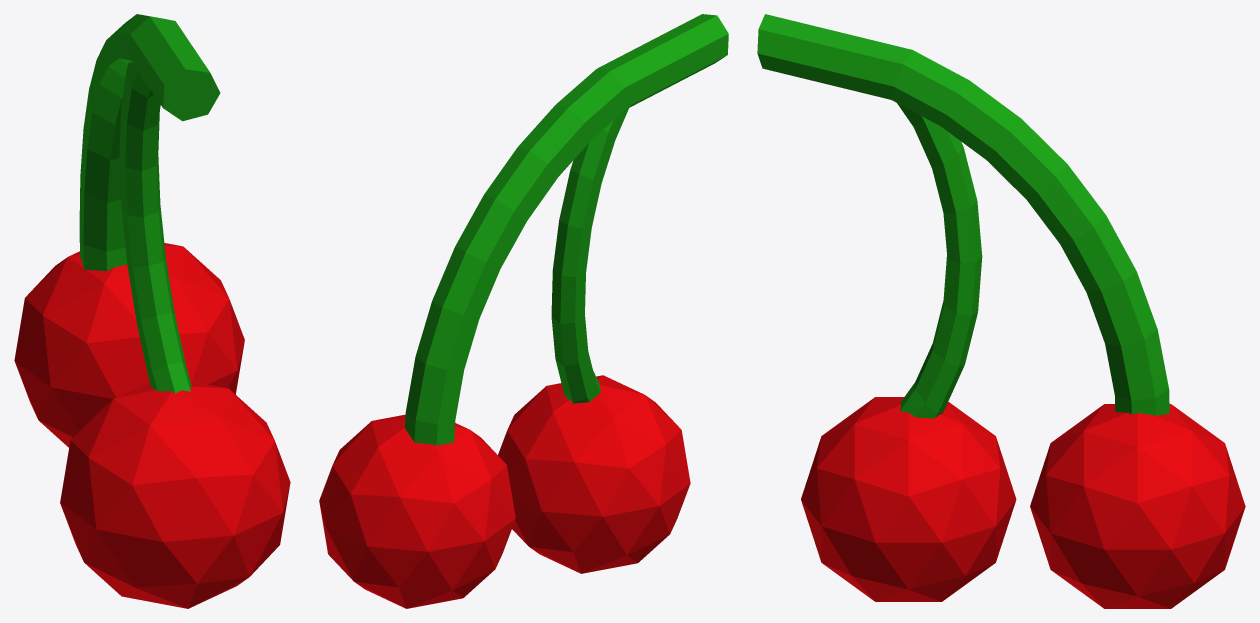
Rendered from Cherry_v.1.0.fbx.
3 views of the same model, side by side, from view 1: azimuth 30°, elevation 25°; view 2: azimuth 150°, elevation 25°; view 3: azimuth 270°, elevation 25° (orthographic). The views are drawn at different scales.
Parts seen in each view (by area): view 1: Icosphere; view 2: Icosphere; view 3: Icosphere.
Part boxes in pixels (left/top/right/bottom): Icosphere: left=14, top=14, right=290, bottom=608; Icosphere: left=319, top=14, right=728, bottom=608; Icosphere: left=757, top=14, right=1245, bottom=608.
Bounding box in the file's own units: 268 × 566 × 453.
